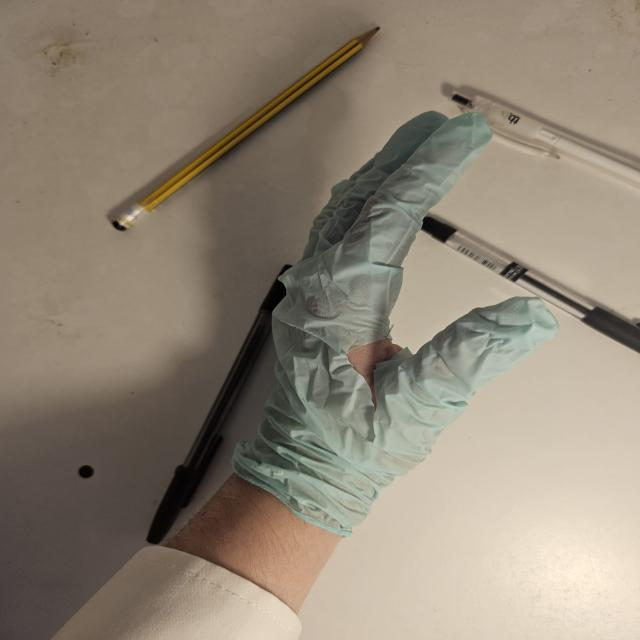gloves_damaged: (224, 107, 566, 538)
